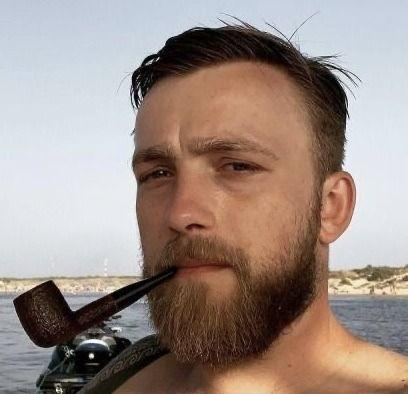trubka: (14, 268, 177, 347)
